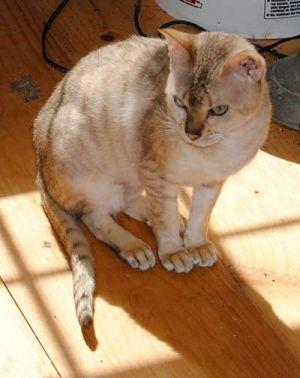bengal: (150, 18, 279, 156)
